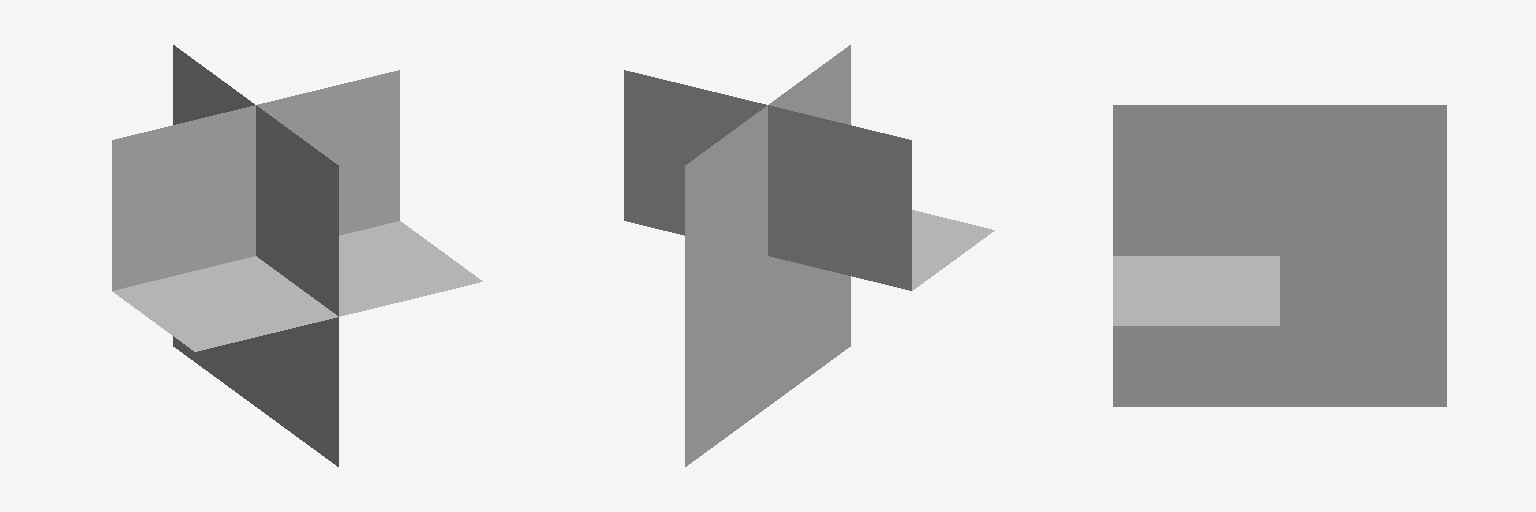
3 views of the same model, side by side, from view 1: azimuth 30°, elevation 25°; view 2: azimuth 150°, elevation 25°; view 3: azimuth 270°, elevation 25° (orthographic).
Visible parts, largest first — view 1: 0101_1001_立方体.110; view 2: 0101_1001_立方体.110; view 3: 0101_1001_立方体.110.
Boxes of the visible parts, x1,y1,x2,y2 form: 0101_1001_立方体.110: [112, 45, 482, 466]; 0101_1001_立方体.110: [624, 45, 994, 466]; 0101_1001_立方体.110: [1113, 105, 1446, 406].
Size of the model in its own units: 1 by 1 by 1.